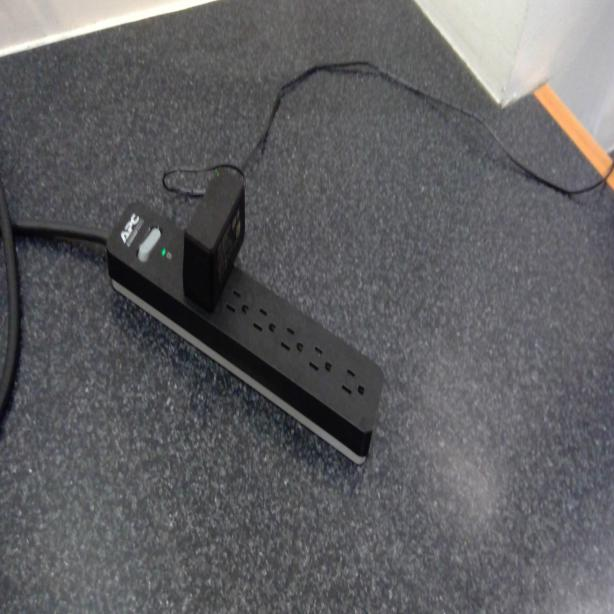typeb: (341, 360, 366, 409), (280, 317, 307, 361), (224, 280, 251, 324), (309, 335, 335, 379), (251, 302, 276, 344)
